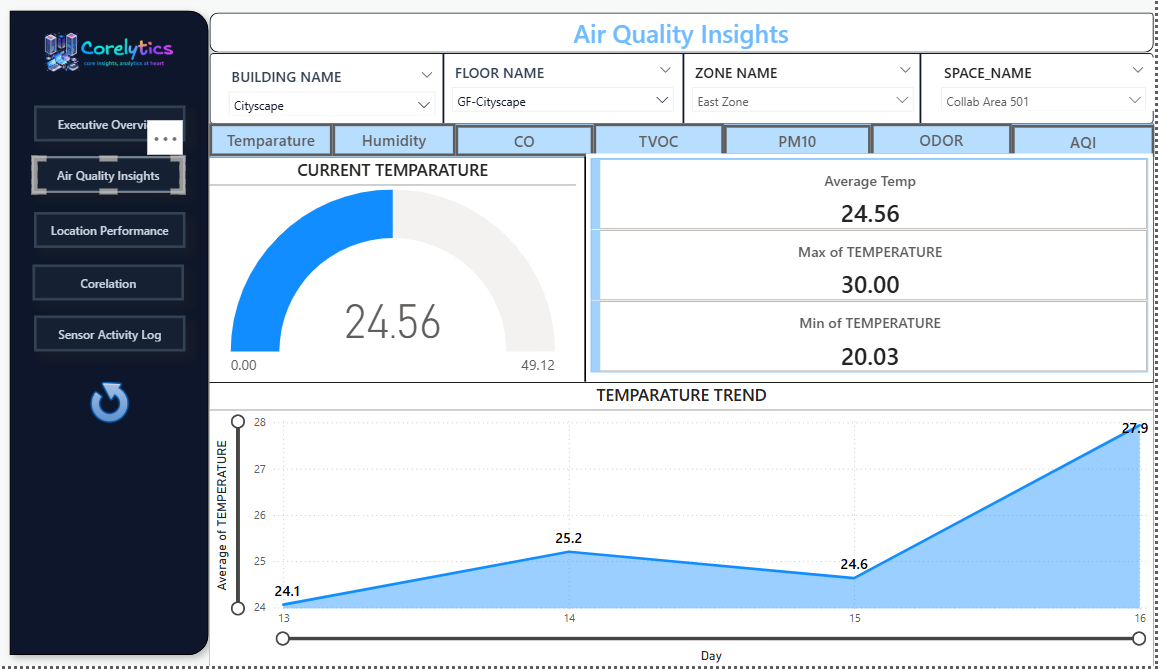

This screenshot's page, from the dashboard's own definition file:
{"tool":"powerbi","page":{"name":"Air Quality Insights","canvas":[1300,750],"ordinal":1},"visuals":[{"type":"shape","box":[0,0,249.6,750.6],"z":0},{"type":"image","box":[0,0,249.6,119.8],"z":1000},{"type":"actionButton","box":[40.5,119.8,170.4,40.5],"z":2000},{"type":"actionButton","box":[38.8,177.1,170.4,40.5],"z":3000},{"type":"actionButton","box":[40.5,239.5,170.4,40.5],"z":4000},{"type":"actionButton","box":[38.8,298.5,170.4,40.5],"z":5000},{"type":"actionButton","box":[40.5,355.9,170.4,40.5],"z":7000},{"type":"shape","box":[238.3,15,1061.7,45],"z":8000},{"type":"shape","box":[238.3,60,1061.7,80],"z":9000},{"type":"slicer","fields":{"Values":["DIM_BUILDING.BUILDING_NAME"]},"box":[250,70,251.7,60],"z":10000},{"type":"slicer","fields":{"Values":["DIM_FLOOR.FLOOR_NAME"]},"box":[501.7,65,268.3,70],"z":11000},{"type":"slicer","fields":{"Values":["DIM_ZONE.ZONE_NAME"]},"box":[770,65,268.3,65],"z":12000},{"type":"slicer","fields":{"Values":["DIM_SPACE.SPACE_NAME"]},"box":[1050,65,250,60],"z":13000},{"type":"shape","box":[1030,60,13.3,80],"z":14000},{"type":"shape","box":[763.3,60,13.3,80],"z":15000},{"type":"shape","box":[495,60,13.3,80],"z":16000},{"type":"shape","box":[238.3,140,1061.7,318.3],"z":17000},{"type":"shape","box":[238.3,431.7,1061.7,318.3],"z":18000},{"type":"shape","box":[238.3,140,1061.7,38.3],"z":19000},{"type":"actionButton","box":[238.3,140,138.3,36.7],"z":20000},{"type":"actionButton","box":[376.7,140,138.3,36.7],"z":21000},{"type":"actionButton","box":[515,141.7,155,35],"z":22000},{"type":"actionButton","box":[670,140,146.7,38.3],"z":23000},{"type":"actionButton","box":[816.7,141.7,165,35],"z":24000},{"type":"actionButton","box":[981.7,140,158.3,36.7],"z":25000},{"type":"actionButton","box":[1140,141.7,160,36.7],"z":26000},{"type":"gauge","fields":{"Y":["FACT_SENSOR_READINGS.Avg_hum"]},"box":[244.6,178.8,404.8,246.3],"z":28000},{"type":"areaChart","title":"HUMIDITY TREND","fields":{"Category":["FACT_SENSOR_READINGS.READING_TIMESTAMP.Variation.Date Hierarchy.Day"],"Y":["Avg(FACT_SENSOR_READINGS.HUMIDITY)"]},"box":[237.8,431.8,1060.9,318.8],"z":29000},{"type":"shape","box":[649.4,177.1,21.9,253],"z":30000},{"type":"shape","box":[237.8,425,1060.9,13.5],"z":31000},{"type":"cardVisual","title":"HUM CARD","fields":{"Data":["Avg(FACT_SENSOR_READINGS.HUMIDITY)","Max(FACT_SENSOR_READINGS.HUMIDITY)1","Min(FACT_SENSOR_READINGS.HUMIDITY)2"]},"box":[661.2,177.1,637.6,251.3],"z":32000}]}

Visuals, with their boxes on the page's 1300x750 design canvas (x1, y1, x2, y2). These are canvas units, not pixel positions in the 1159x669 screenshot, which may show the page scaled, cropped or inside an application window:
shape: x1=0 y1=0 x2=250 y2=751
image: x1=0 y1=0 x2=250 y2=120
actionButton: x1=40 y1=120 x2=211 y2=160
actionButton: x1=39 y1=177 x2=209 y2=218
actionButton: x1=40 y1=240 x2=211 y2=280
actionButton: x1=39 y1=298 x2=209 y2=339
actionButton: x1=40 y1=356 x2=211 y2=396
shape: x1=238 y1=15 x2=1300 y2=60
shape: x1=238 y1=60 x2=1300 y2=140
slicer - DIM_BUILDING.BUILDING_NAME: x1=250 y1=70 x2=502 y2=130
slicer - DIM_FLOOR.FLOOR_NAME: x1=502 y1=65 x2=770 y2=135
slicer - DIM_ZONE.ZONE_NAME: x1=770 y1=65 x2=1038 y2=130
slicer - DIM_SPACE.SPACE_NAME: x1=1050 y1=65 x2=1300 y2=125
shape: x1=1030 y1=60 x2=1043 y2=140
shape: x1=763 y1=60 x2=777 y2=140
shape: x1=495 y1=60 x2=508 y2=140
shape: x1=238 y1=140 x2=1300 y2=458
shape: x1=238 y1=432 x2=1300 y2=750
shape: x1=238 y1=140 x2=1300 y2=178
actionButton: x1=238 y1=140 x2=377 y2=177
actionButton: x1=377 y1=140 x2=515 y2=177
actionButton: x1=515 y1=142 x2=670 y2=177
actionButton: x1=670 y1=140 x2=817 y2=178
actionButton: x1=817 y1=142 x2=982 y2=177
actionButton: x1=982 y1=140 x2=1140 y2=177
actionButton: x1=1140 y1=142 x2=1300 y2=178
gauge - FACT_SENSOR_READINGS.Avg_hum: x1=245 y1=179 x2=649 y2=425
"HUMIDITY TREND" areaChart: x1=238 y1=432 x2=1299 y2=751
shape: x1=649 y1=177 x2=671 y2=430
shape: x1=238 y1=425 x2=1299 y2=438
"HUM CARD" cardVisual: x1=661 y1=177 x2=1299 y2=428
